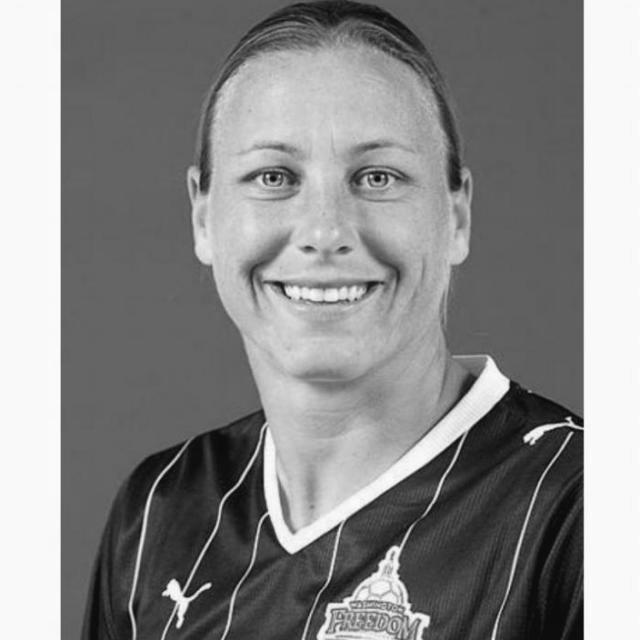real: (174, 32, 496, 390)
